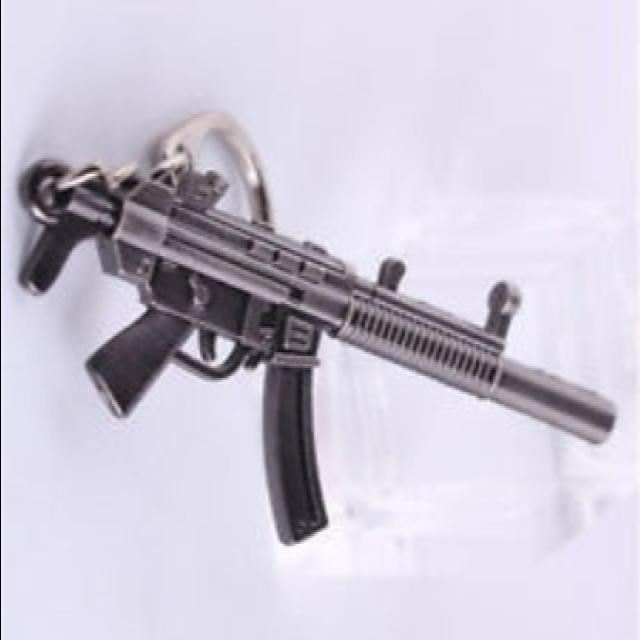rifle: (16, 149, 630, 547)
